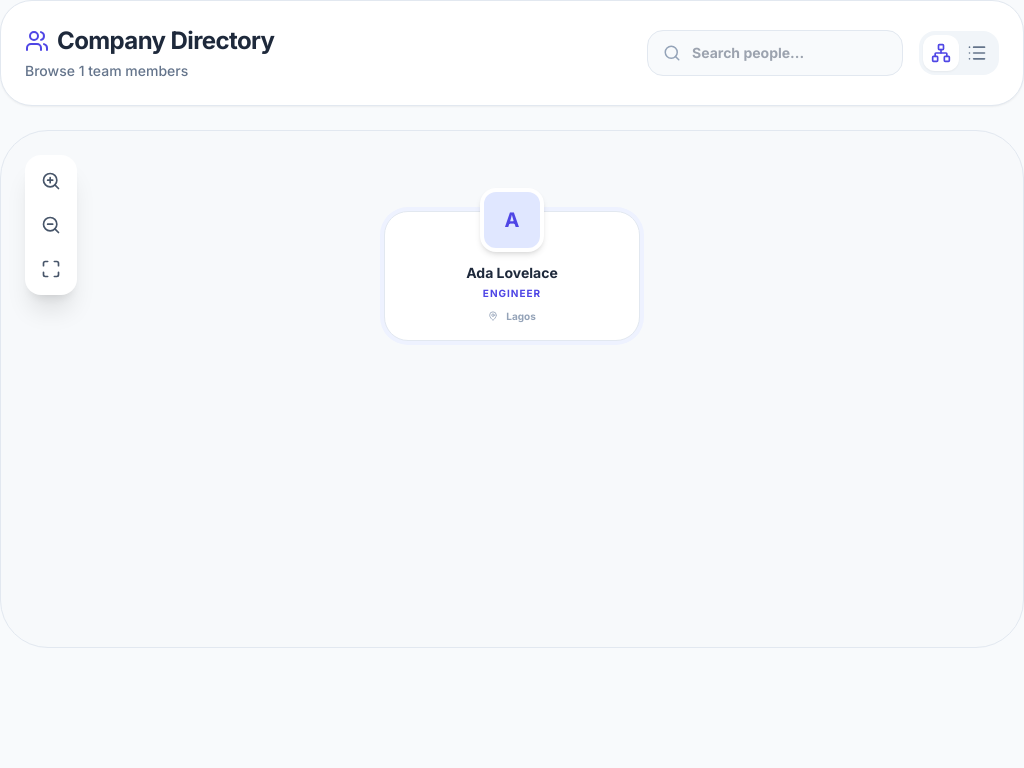
Test: Directory › List view › falls back to "N/A" for a missing phone number in the detail panel
What coordinates should you click on to do the following:
click the 2nd button
I would click on:
 (977, 53)
Its box is x1=959 y1=35 x2=995 y2=71.
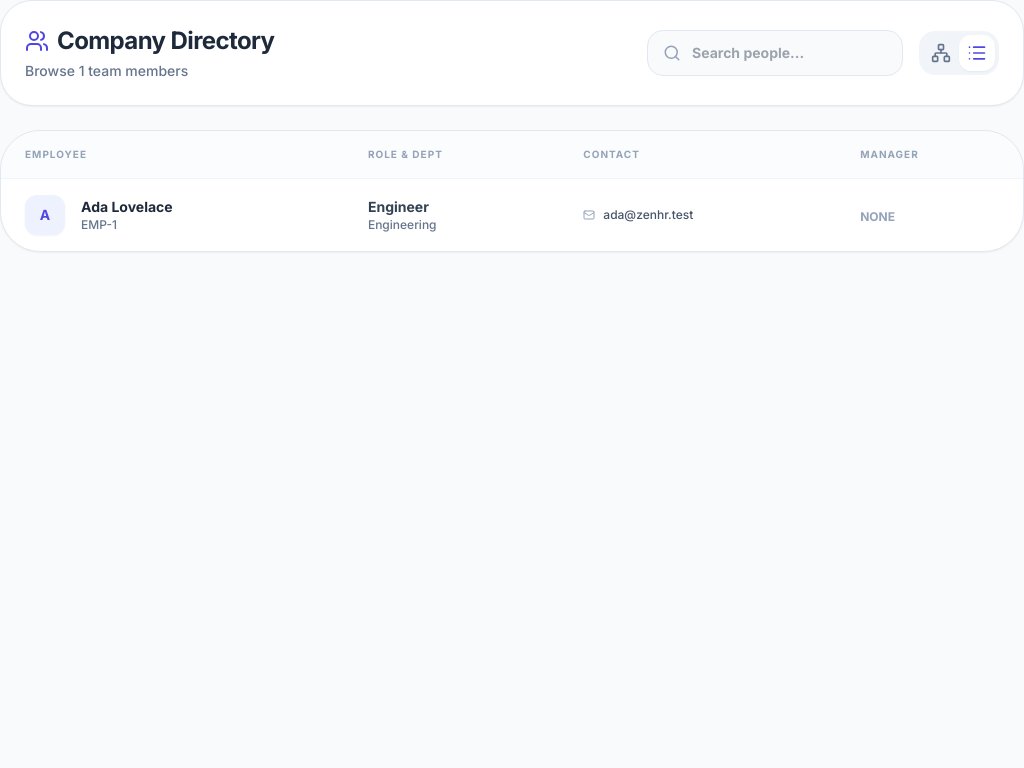
What coordinates should you click on to do the following:
click the text "Ada Lovelace"
I would click on:
 (127, 207)
Its box is x1=81 y1=197 x2=173 y2=217.
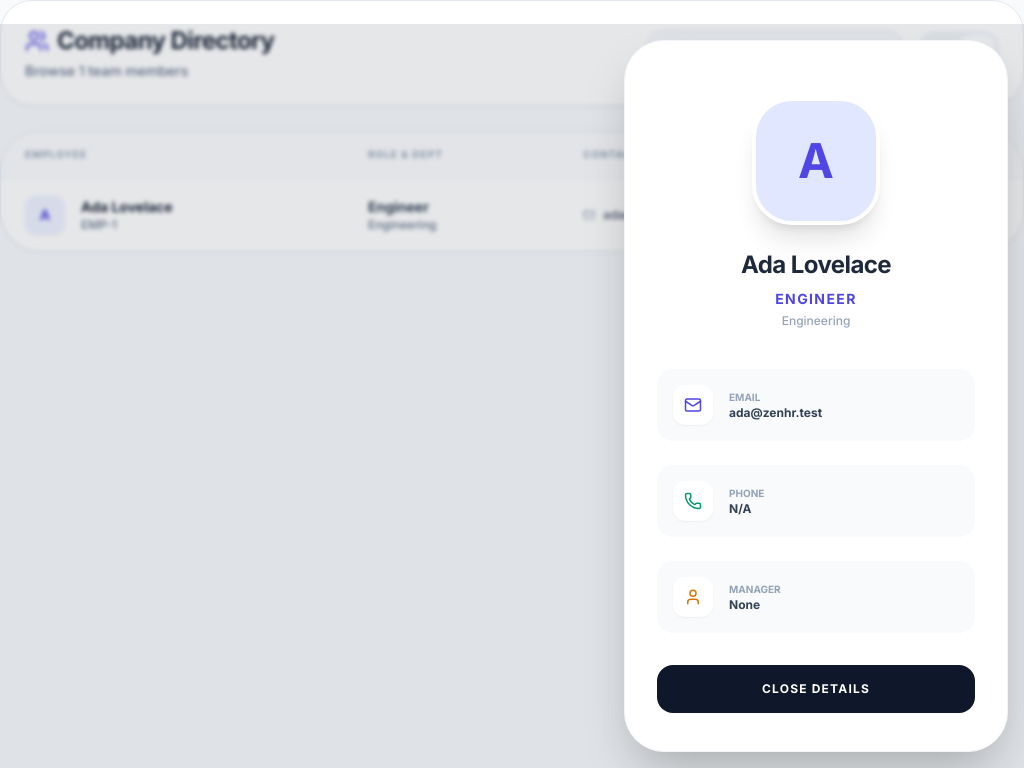
Now the text "N/A" is shown, box x1=729 y1=500 x2=752 y2=516
